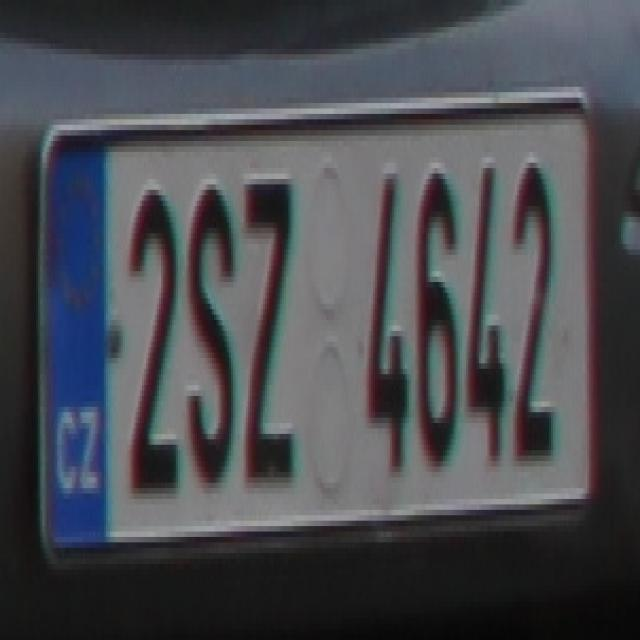2: (125, 173, 180, 500), (508, 157, 562, 461)
4: (363, 168, 411, 467), (464, 163, 509, 472)
6: (411, 163, 458, 472)
S: (184, 173, 236, 500)
Z: (239, 162, 299, 493)
